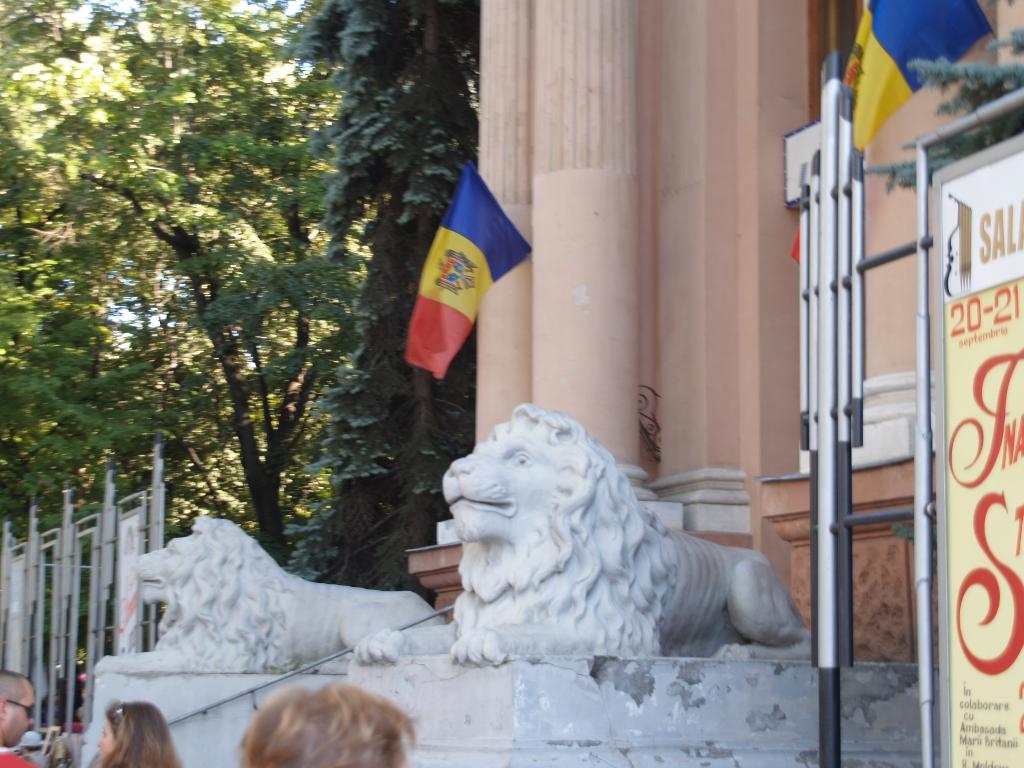Human-face: (0, 678, 40, 751), (95, 712, 117, 761)
